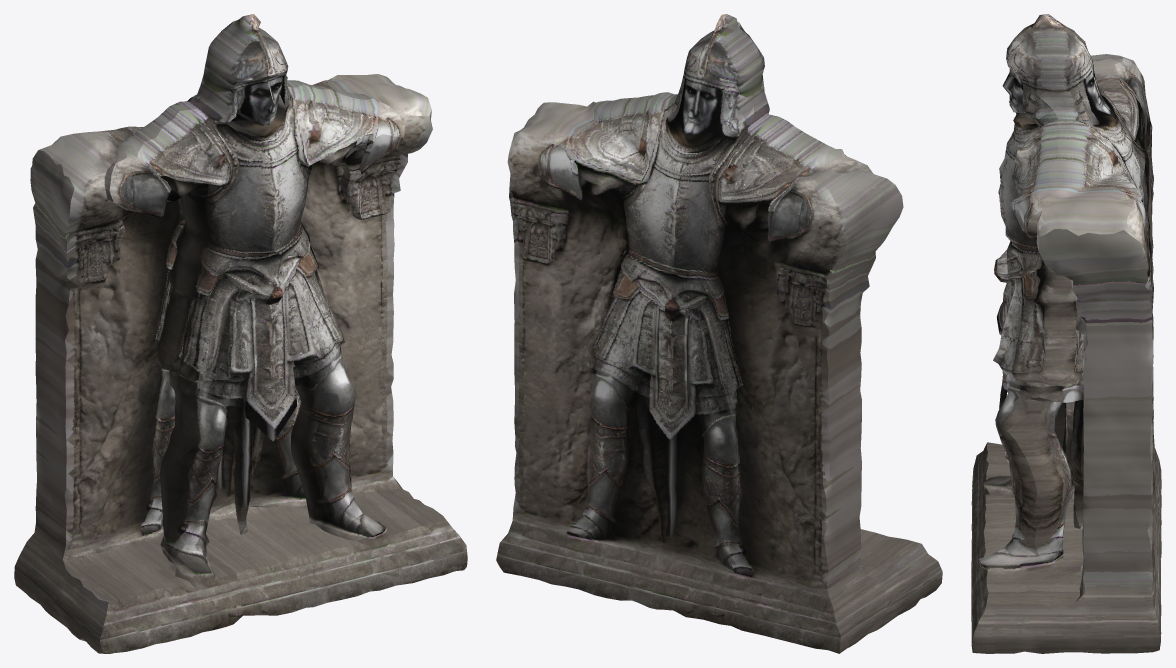
File: sarcophagus.glb
3 renders of one model, left to right at view 1: azimuth 30°, elevation 25°; view 2: azimuth 150°, elevation 25°; view 3: azimuth 270°, elevation 25°, orthographic. The views are drawn at different scales.
Parts seen in each view (by area): view 1: geometry_0; view 2: geometry_0; view 3: geometry_0.
Boxes of the visible parts, <box> form: geometry_0: <box>14,14,467,653</box>; geometry_0: <box>496,14,942,653</box>; geometry_0: <box>971,14,1161,653</box>.
Size of the model in its own units: 0.674 by 1 by 0.3102.
1 material, 1 textured.
